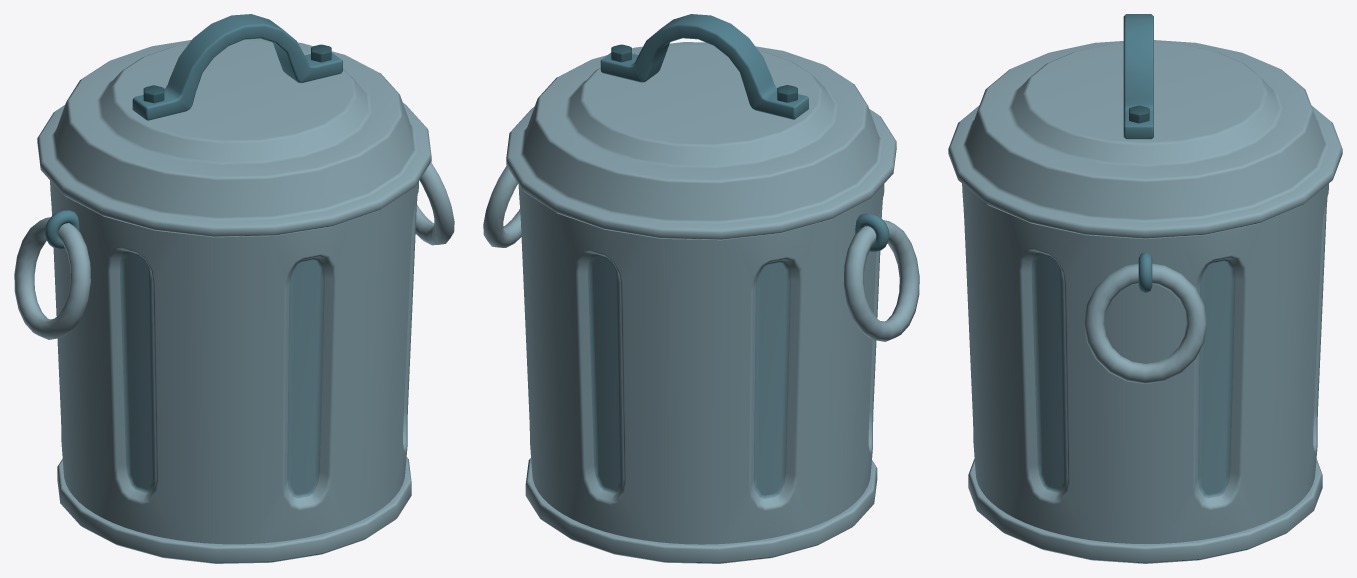
The model's file is Town_1_Trash_Can_1.glb.
3 renders of one model, left to right at view 1: azimuth 30°, elevation 25°; view 2: azimuth 150°, elevation 25°; view 3: azimuth 270°, elevation 25°, orthographic.
Parts seen in each view (by area): view 1: Town_1_Trash_Can_1; view 2: Town_1_Trash_Can_1; view 3: Town_1_Trash_Can_1.
Boxes of the visible parts, box(x1,y1,x2,y2) form: Town_1_Trash_Can_1: box(14, 14, 454, 563); Town_1_Trash_Can_1: box(483, 14, 919, 563); Town_1_Trash_Can_1: box(948, 14, 1342, 563).
Size of the model in its own units: 1.05 by 1.17 by 0.8896.
1 material, 1 textured.
